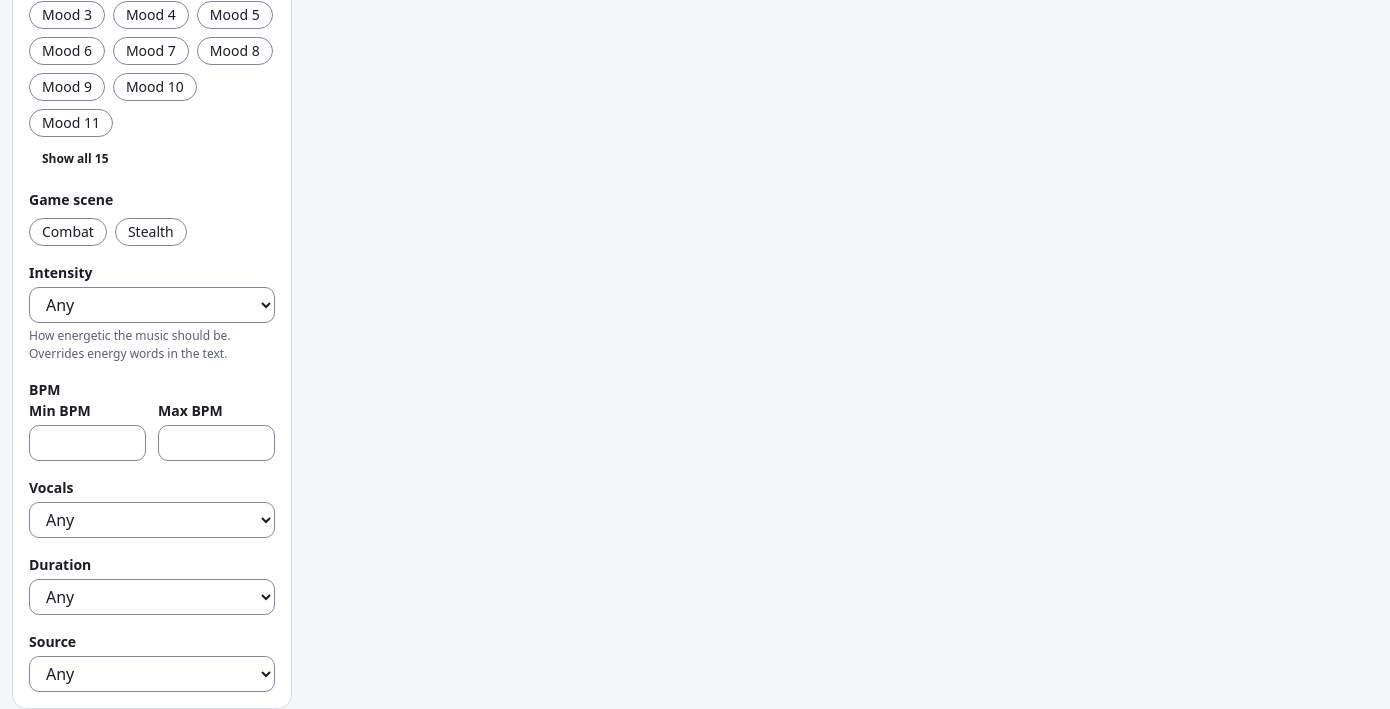
Test: Search page: filters › maps the duration preset Jingle (under 15 s)
(page scrolled)
Select "Jingle (under 15 s)" in the dropdown labelled "Duration" at x=152, y=596, box x1=29 y1=578 x2=275 y2=614
(page scrolled)
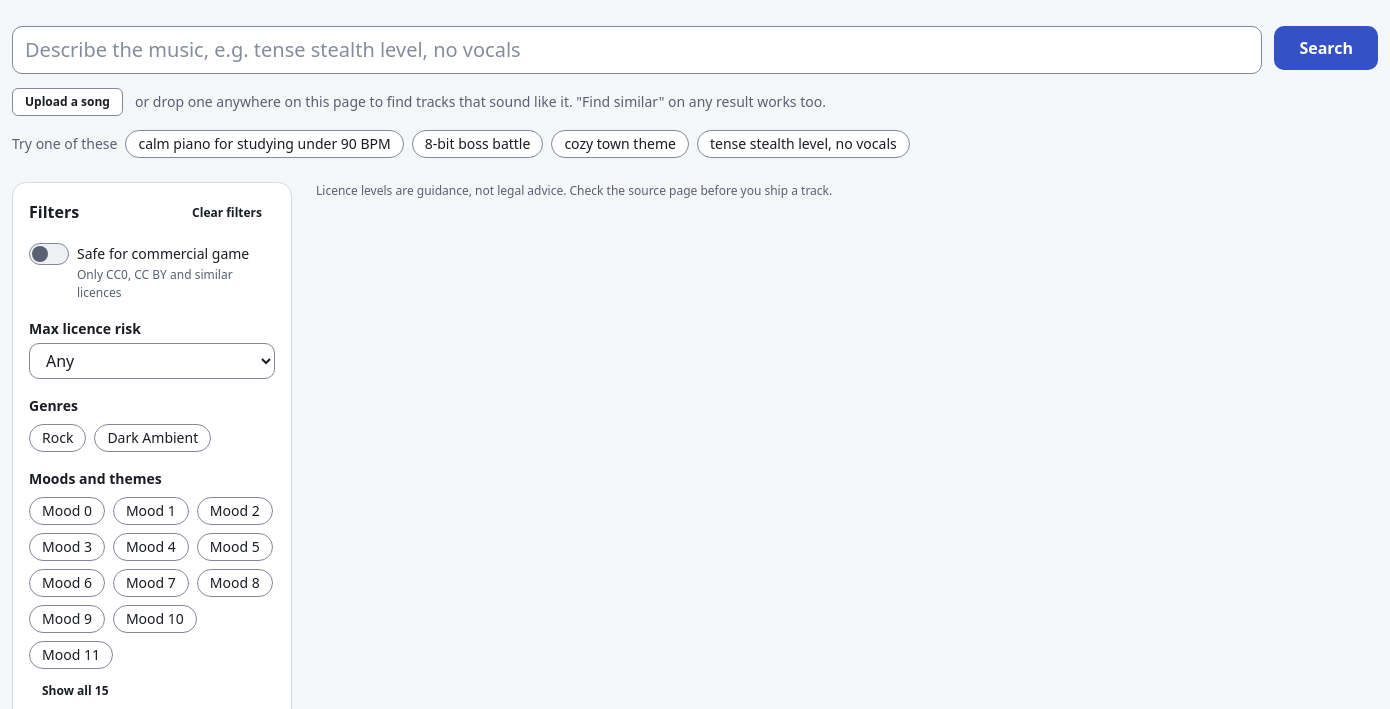
Type "x" into the field named "Describe the music you need".
click(637, 50); type("x")  # box x1=12 y1=26 x2=1262 y2=74
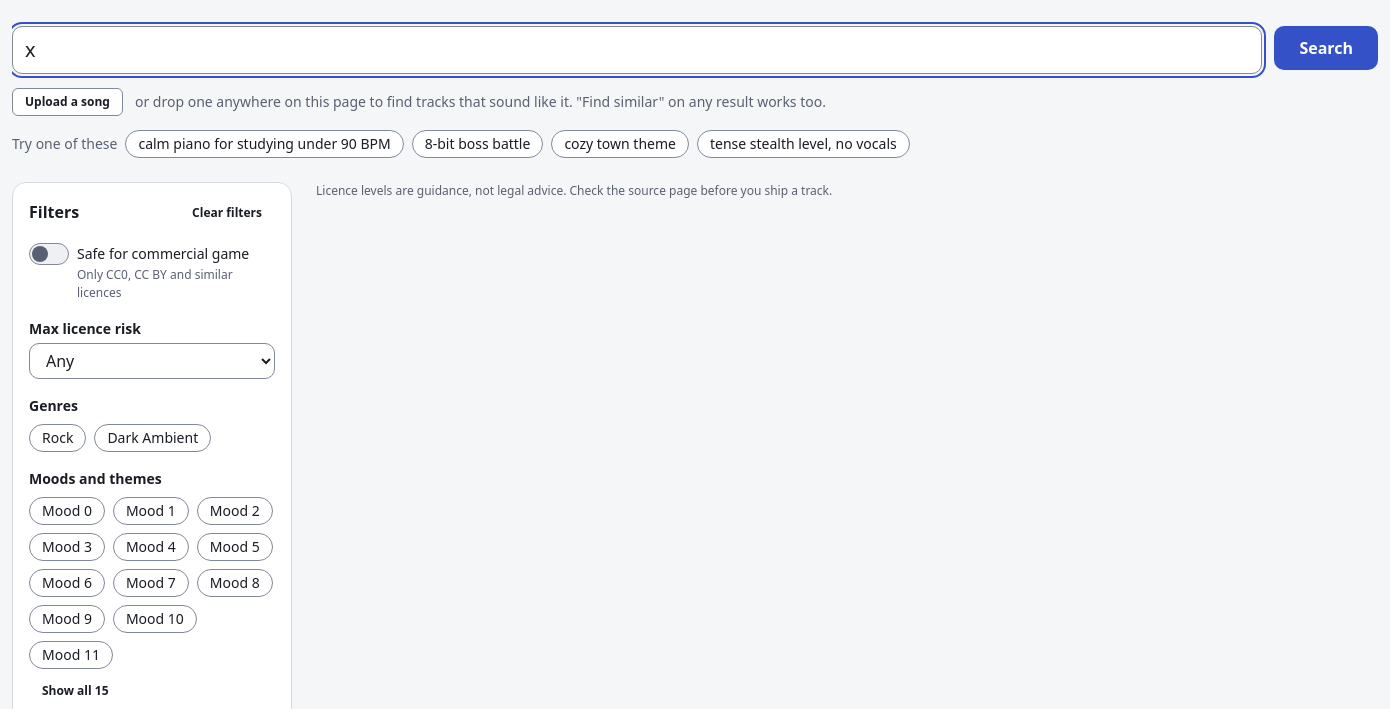
Click the button "Search".
click(1326, 48)  # box x1=1274 y1=26 x2=1378 y2=70
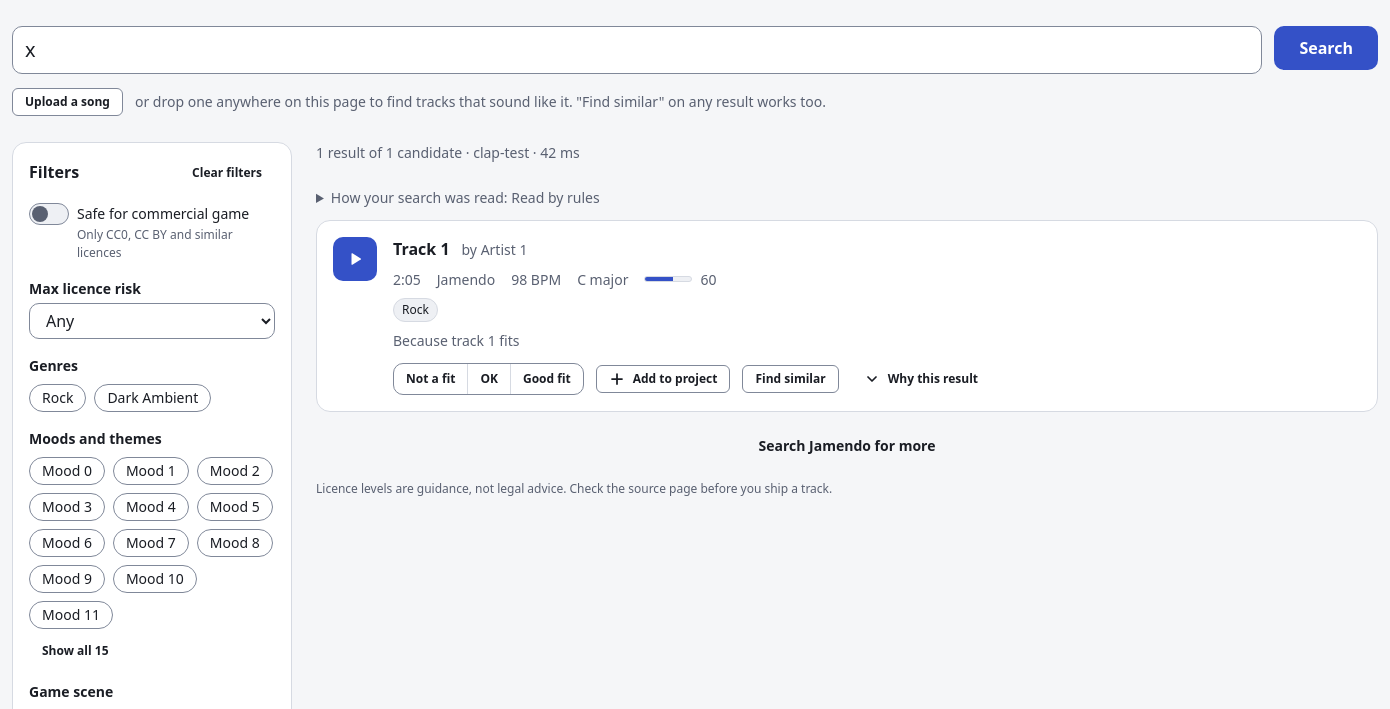
Expected: the button "Track 1" is shown, x1=393 y1=236 x2=450 y2=260
